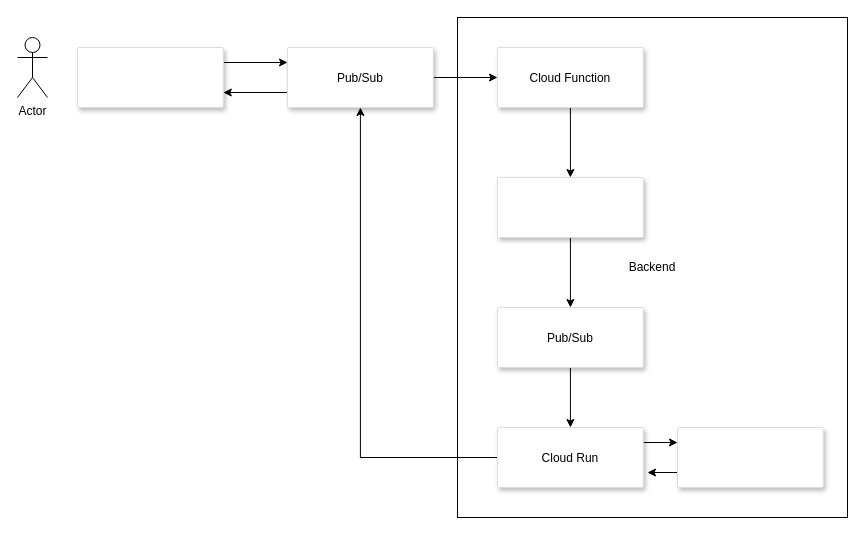
Image size: 865x535. Some labels were removed from this diagram. The shapes that lost their labels are listed below. From the top down, each one's centre as x and y in pixels, then its label:
At pixel 150 78: "Flutter App (Frontend)".
At pixel 570 208: "Speech to Text".
At pixel 750 458: "Gemini".
